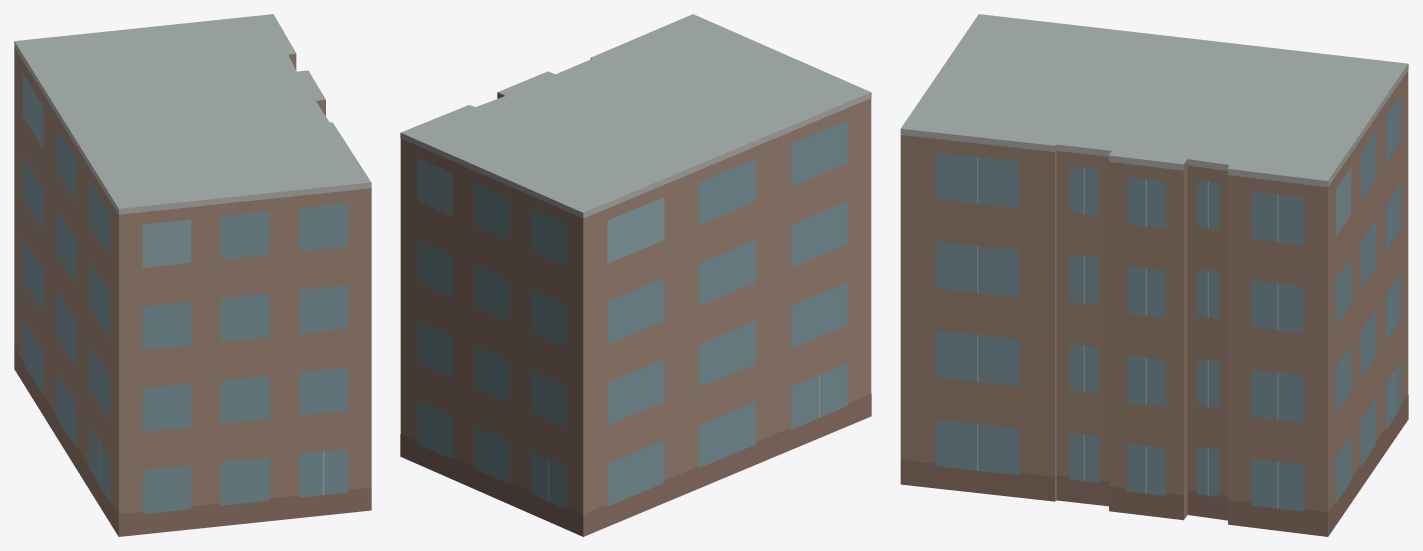
The model's file is survey-upis-32699207.glb.
The picture shows the model from 3 angles, left to right: view 1: azimuth 30°, elevation 25°; view 2: azimuth 150°, elevation 25°; view 3: azimuth 270°, elevation 25°; orthographic projection. The views are drawn at different scales.
Visible parts, largest first — view 1: survey-upis-32699207.tmp; view 2: survey-upis-32699207.tmp; view 3: survey-upis-32699207.tmp.
Boxes of the visible parts, x1,y1,x2,y2 form: survey-upis-32699207.tmp: (14, 14, 371, 536); survey-upis-32699207.tmp: (400, 14, 871, 536); survey-upis-32699207.tmp: (900, 14, 1408, 536).
Size of the model in its own units: 14.01 by 13.9 by 17.99.
